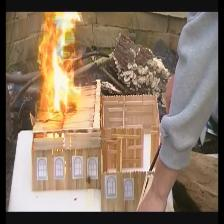fire: (37, 12, 80, 119)
